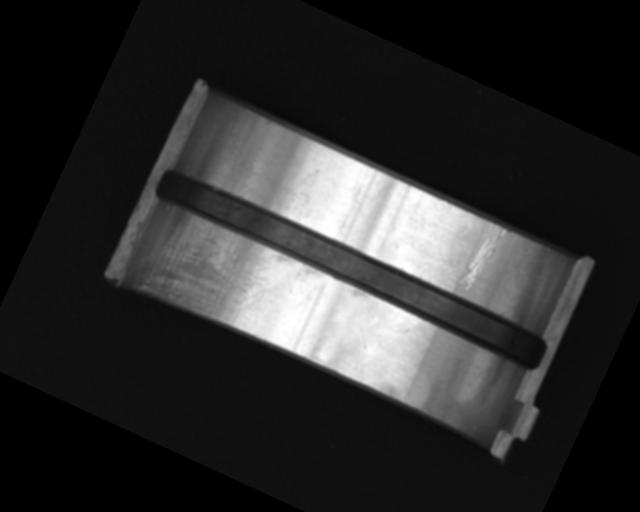gap: (151, 164, 551, 376)
nick: (456, 218, 510, 297)
scratch: (128, 201, 292, 345)
